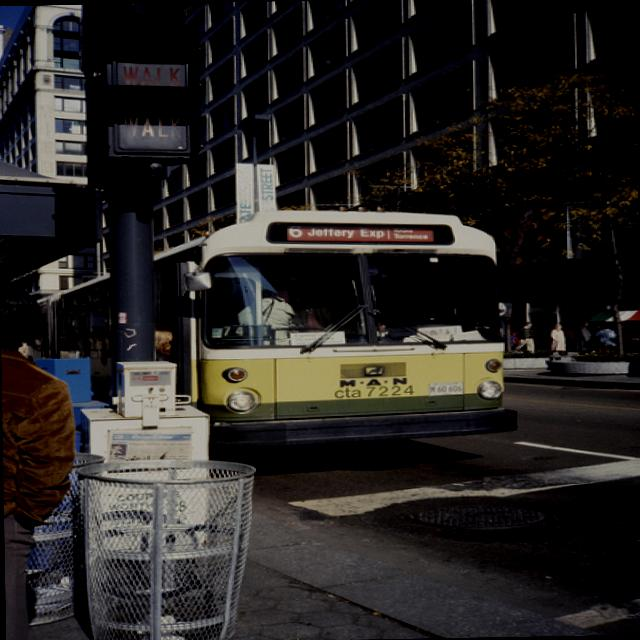Vehicle: (30, 209, 516, 446)
